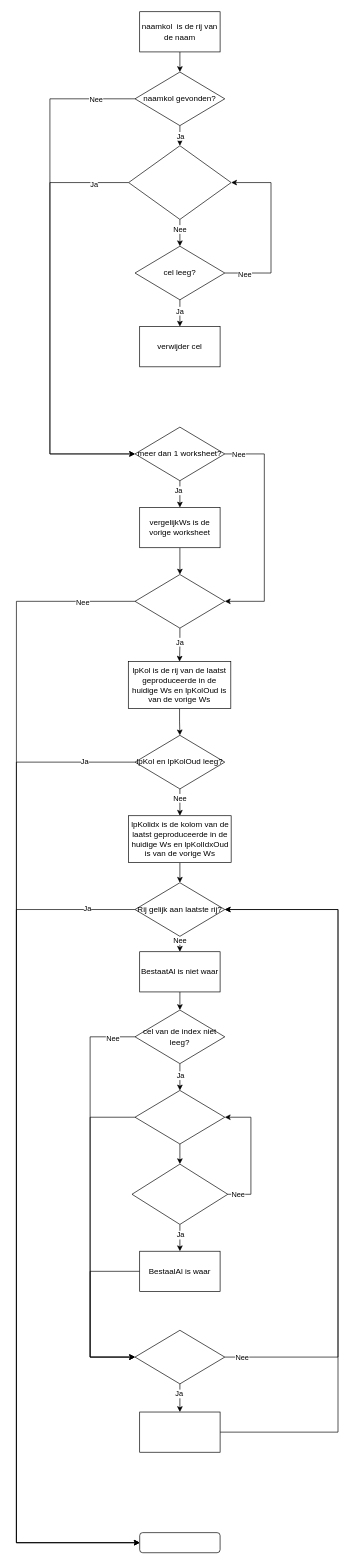
Image size: 355x1564. Some labels were removed from this diagram. Here are the shapes that lost their labels. From the top down, the centre of each, then its label:
the point at 179,182: laatste rij met stappen van -1 gelijk aan eerste rij
the point at 179,601: vergelijkWs?
the point at 179,1117: Oude Rij gelijk aan laatste oude rij?
the point at 179,1193: Nieuwe waarde gelijk aan oude waarde?
the point at 179,1357: bestaatAl is waar?
the point at 179,1431: Cell wordt geel
the point at 179,1542: End
